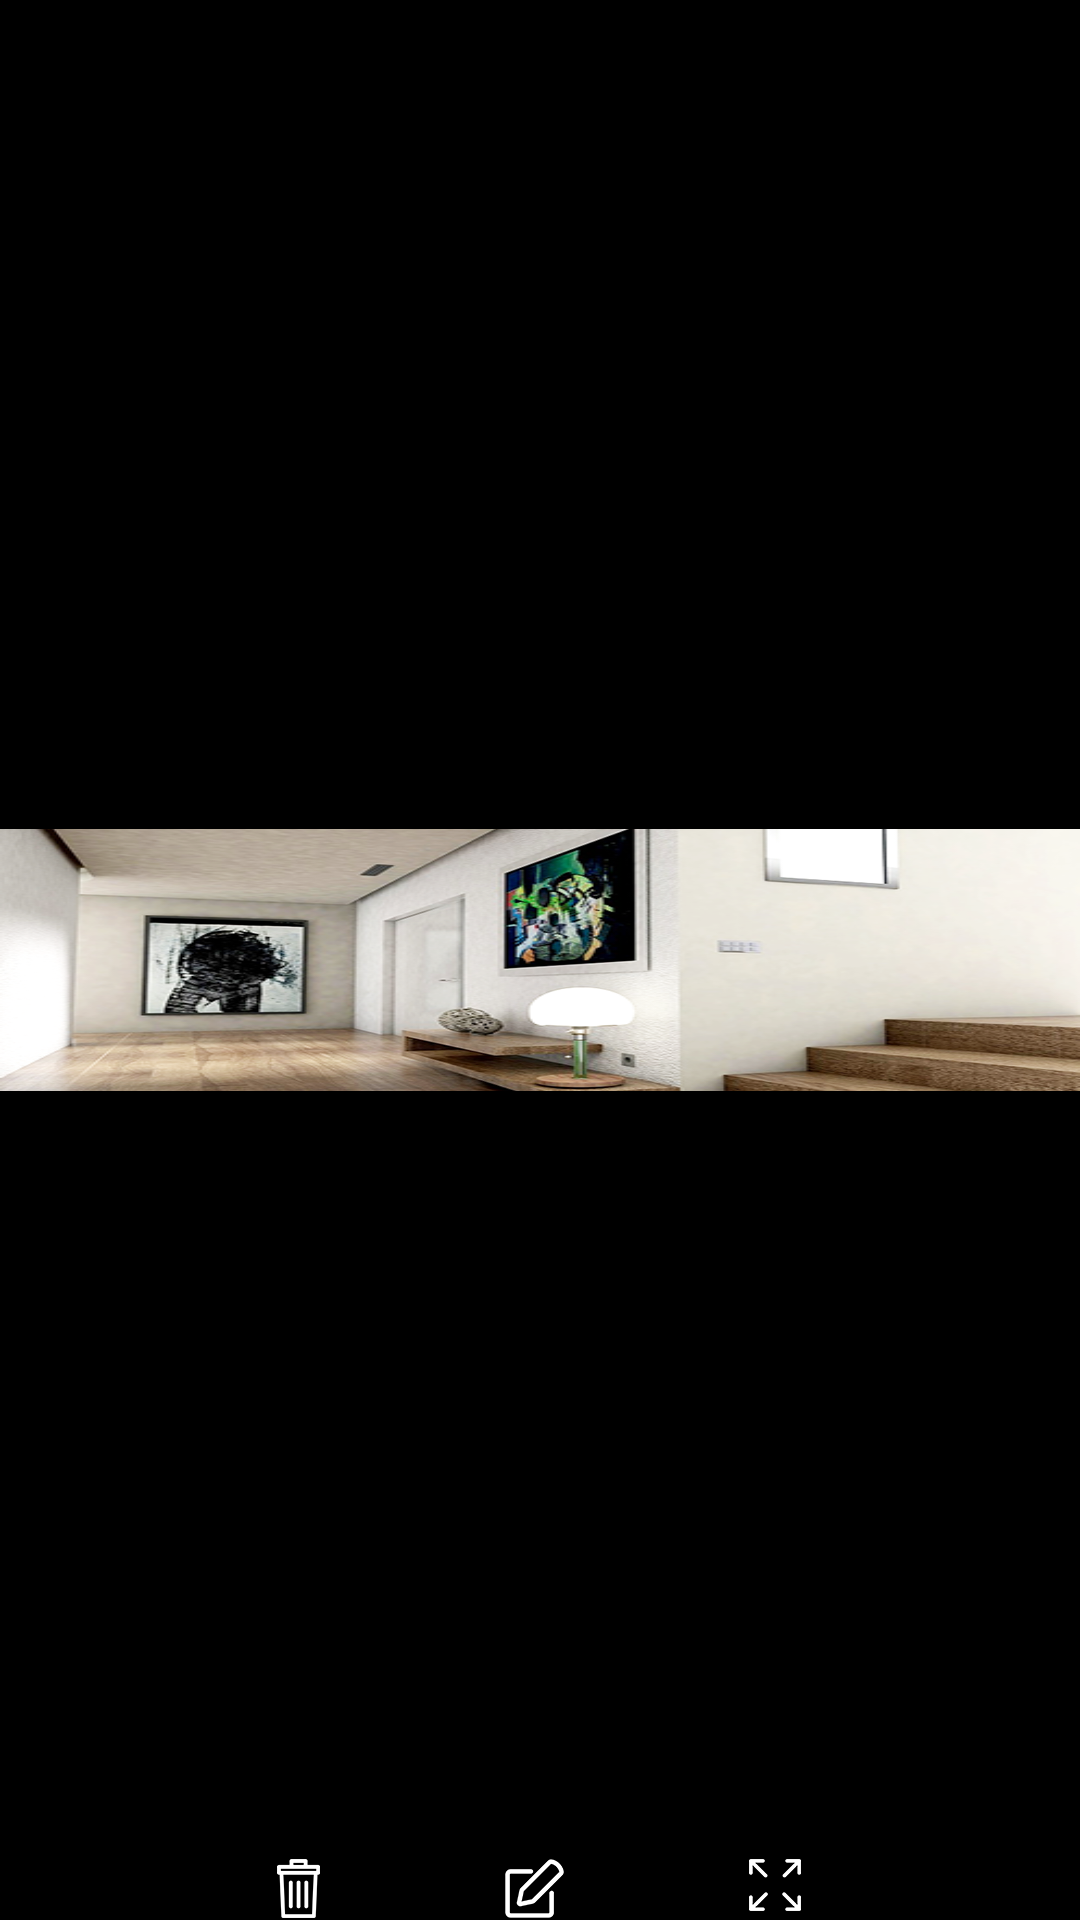

Screen size 1080 × 1920. Icon name, then its center in pixels as (x,y):
delete: (298,1888)
edit: (534,1888)
full screen: (775,1885)
